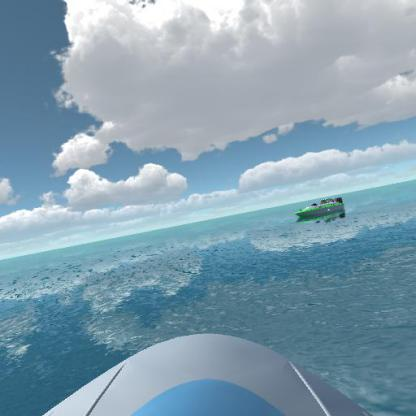usv0: (288, 189, 351, 226)
